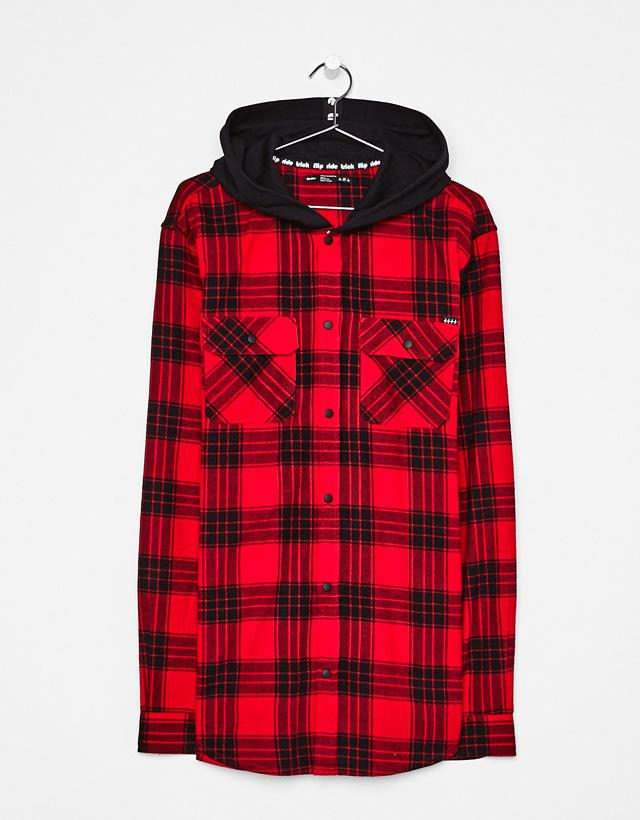teeshirt: (113, 102, 523, 780)
